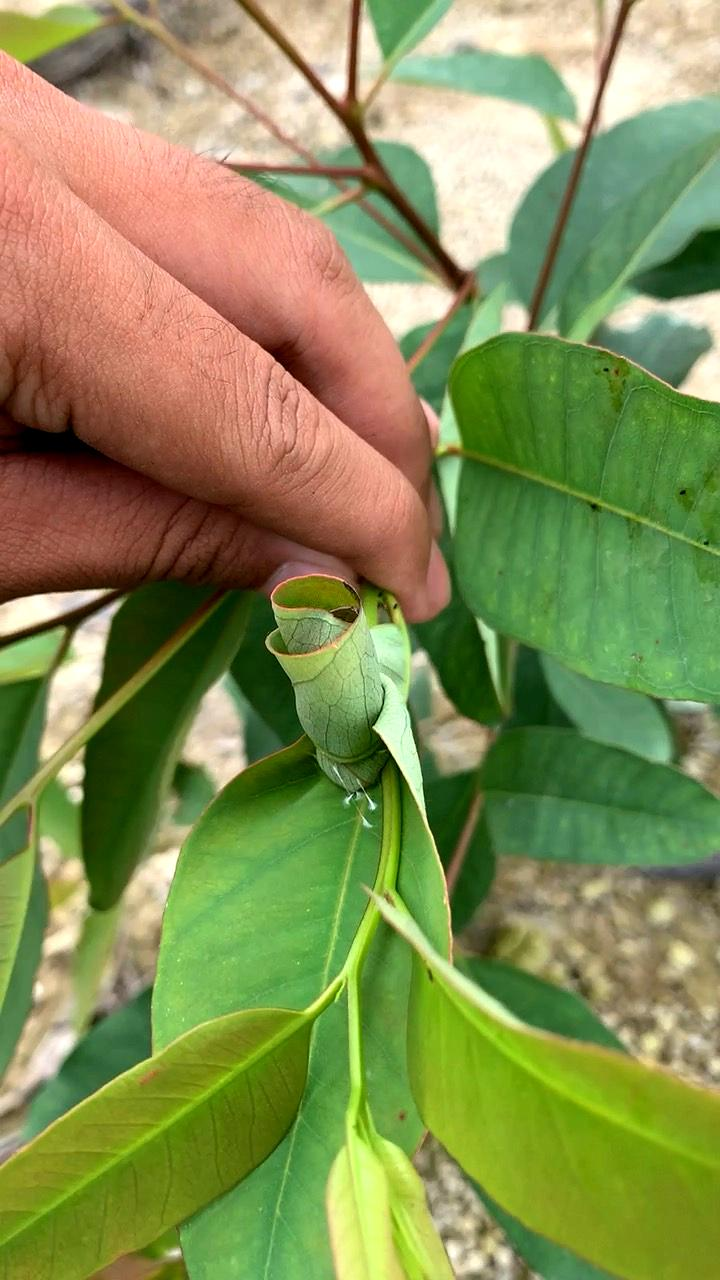Leaf Roller - Leaf: (260, 568, 411, 820)
